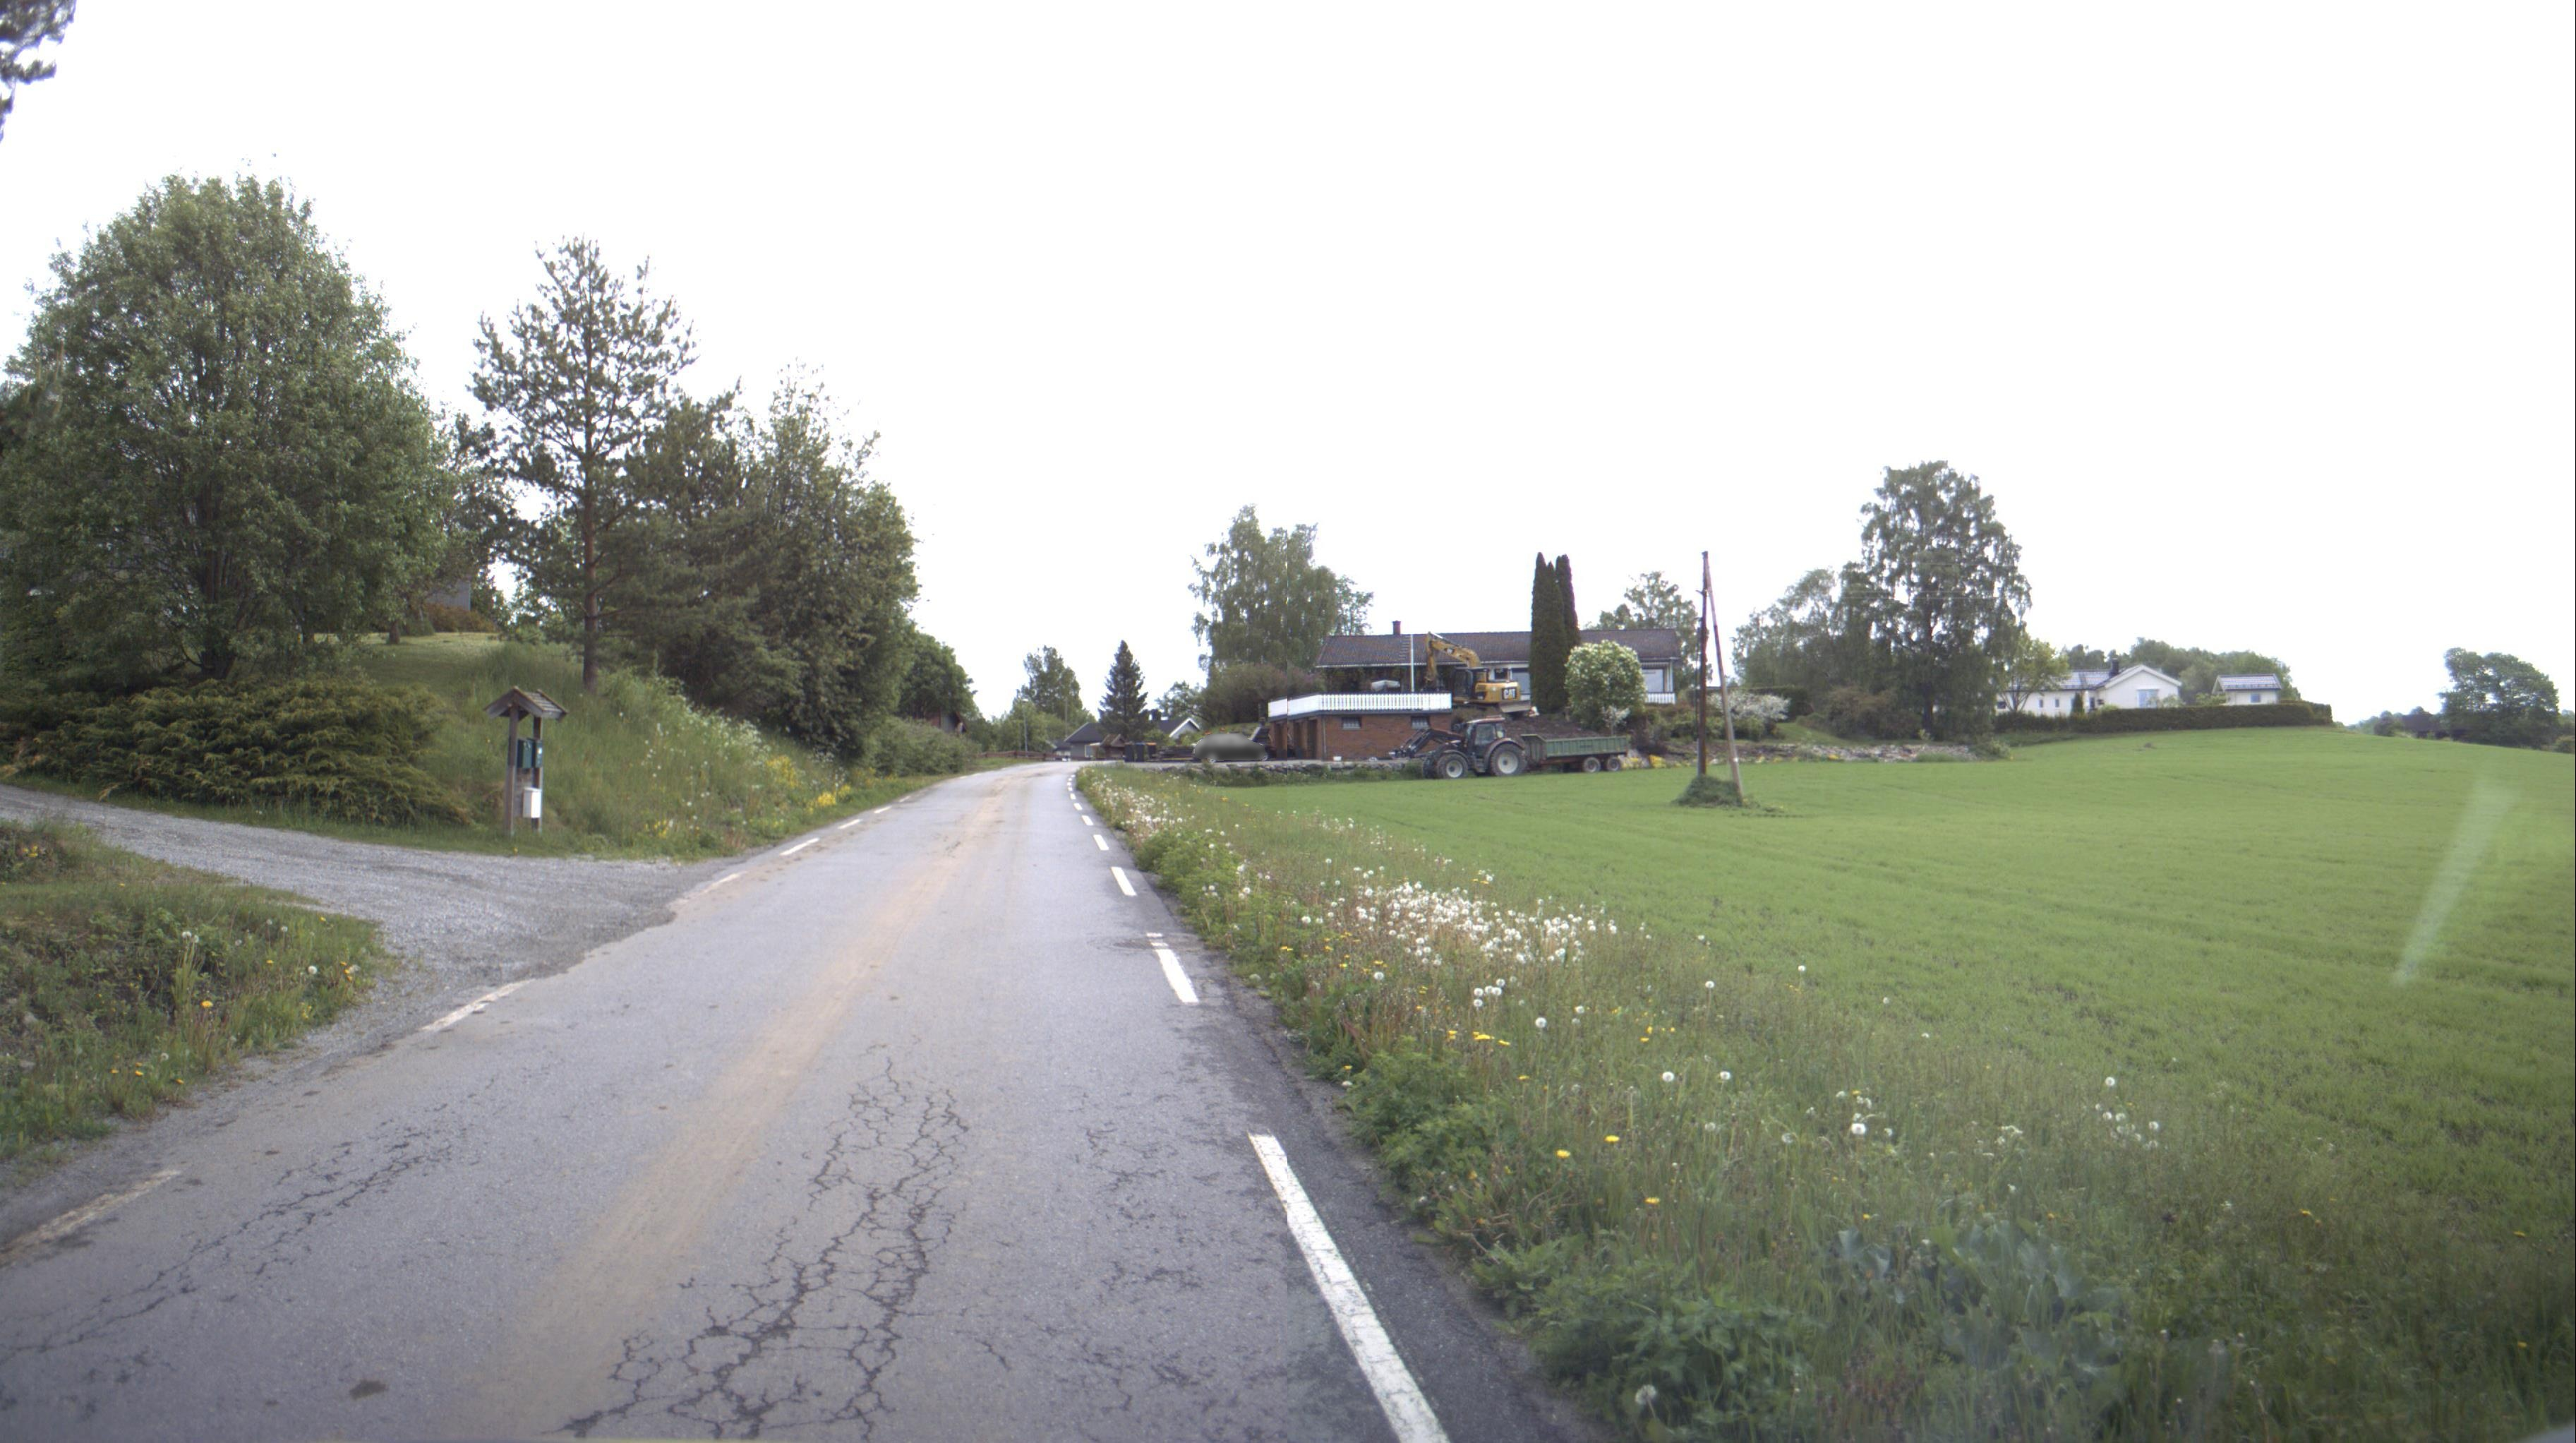Plaisa: (560, 1096, 965, 1442), (0, 1293, 167, 1365), (237, 1182, 354, 1234), (134, 1236, 227, 1293), (809, 1132, 869, 1209), (850, 1057, 904, 1125), (336, 1170, 378, 1208), (272, 1163, 317, 1189), (260, 1229, 291, 1250), (861, 1120, 886, 1146), (256, 1257, 289, 1276), (927, 1139, 945, 1163), (305, 1211, 315, 1224), (945, 1089, 954, 1102), (852, 1146, 869, 1150)
